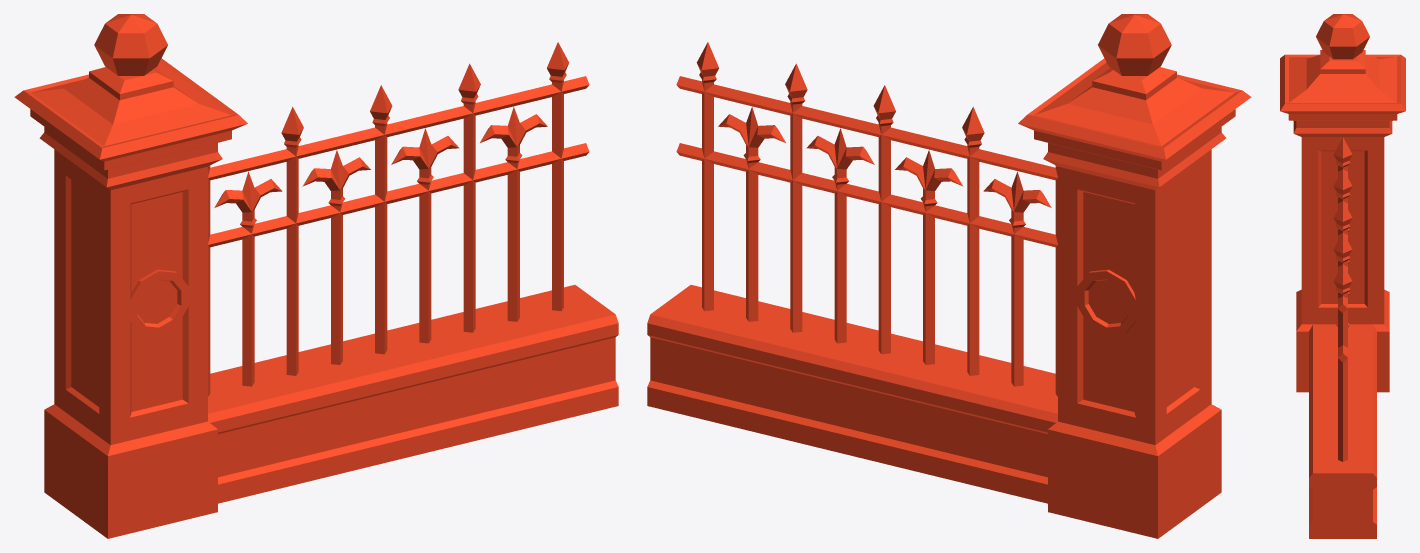
The model's file is SM_Fence_Ornamental_2m_City.fbx.
3 views of the same model, side by side, from view 1: azimuth 30°, elevation 25°; view 2: azimuth 150°, elevation 25°; view 3: azimuth 270°, elevation 25° (orthographic). The views are drawn at different scales.
Visible parts, largest first — view 1: SM_Fence_Ornamental_2m_City; view 2: SM_Fence_Ornamental_2m_City; view 3: SM_Fence_Ornamental_2m_City.
Boxes of the visible parts, x1,y1,x2,y2 form: SM_Fence_Ornamental_2m_City: (14, 14, 618, 538); SM_Fence_Ornamental_2m_City: (647, 14, 1251, 538); SM_Fence_Ornamental_2m_City: (1280, 14, 1405, 538).
Bounding box in the file's own units: 2.15 × 1.86 × 0.5931.
